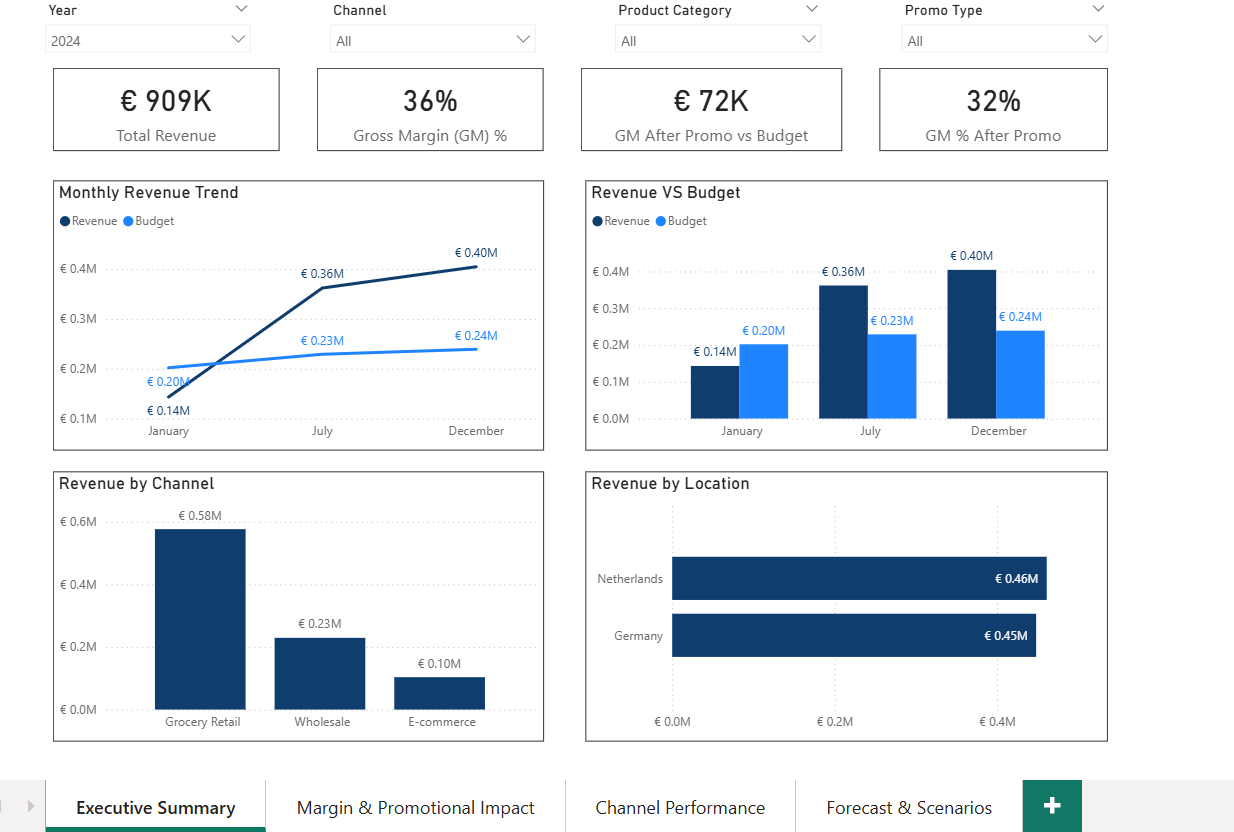

This screenshot's page, from the dashboard's own definition file:
{"tool":"powerbi","page":{"name":"Executive Summary","canvas":[1280,820],"ordinal":0},"visuals":[{"type":"card","fields":{"Values":["fact_sales.Total revenue"]},"box":[114.2,70.6,222,81.4],"z":0},{"type":"card","fields":{"Values":["fact_sales.Gross margin %"]},"box":[373.5,70.6,222,81.4],"z":1000},{"type":"card","fields":{"Values":["fact_promotions.Gross margin after promo %"]},"box":[924.3,70.6,223.7,81.4],"z":2000},{"type":"card","fields":{"Values":["fact_sales.Margin variance after Promo"]},"box":[632.8,70.6,255.9,81.4],"z":3000},{"type":"slicer","fields":{"Values":["dim_date.year"]},"box":[97.2,0,221.5,70.1],"z":4000},{"type":"slicer","fields":{"Values":["dim_channel.channel"]},"box":[376.9,0,221.5,70.1],"z":5000},{"type":"slicer","fields":{"Values":["dim_product.category"]},"box":[656.5,0,222,69.5],"z":6000},{"type":"lineChart","title":"Monthly Revenue Trend","fields":{"Category":["dim_date.month_name"],"Y":["fact_sales.Total revenue","fact_budget.Budget total revenue"]},"box":[114.2,180.8,481.4,264.4],"z":7000},{"type":"clusteredColumnChart","title":"Revenue VS Budget","fields":{"Category":["dim_date.month_name"],"Y":["Sum(fact_sales.revenue)","Sum(fact_budget.budget_revenue)"]},"box":[636.2,180.8,511.9,264.4],"z":8000},{"type":"clusteredColumnChart","title":"Revenue by Channel","fields":{"Y":["Sum(fact_sales.revenue)"],"Category":["dim_channel.channel"]},"box":[114.2,465.5,481.4,264.4],"z":9000},{"type":"clusteredBarChart","title":"Revenue by Location","fields":{"Category":["dim_region.country"],"Y":["Sum(fact_sales.revenue)"]},"box":[636.2,465.5,511.9,264.4],"z":10000},{"type":"slicer","fields":{"Values":["fact_promotions.promo_mechanic"]},"box":[936.8,0,222.1,69.1],"z":11000}]}

Visuals, with their boxes in screenshot pixels (x1, y1, x2, y2):
card - fact_sales.Total revenue: rect(49, 66, 276, 149)
card - fact_sales.Gross margin %: rect(314, 66, 541, 149)
card - fact_promotions.Gross margin after promo %: rect(877, 66, 1106, 149)
card - fact_sales.Margin variance after Promo: rect(579, 66, 841, 149)
slicer - dim_date.year: rect(32, 0, 258, 65)
slicer - dim_channel.channel: rect(318, 0, 544, 65)
slicer - dim_product.category: rect(603, 0, 830, 65)
"Monthly Revenue Trend" lineChart: rect(49, 178, 541, 449)
"Revenue VS Budget" clusteredColumnChart: rect(583, 178, 1106, 449)
"Revenue by Channel" clusteredColumnChart: rect(49, 469, 541, 739)
"Revenue by Location" clusteredBarChart: rect(583, 469, 1106, 739)
slicer - fact_promotions.promo_mechanic: rect(890, 0, 1117, 64)
